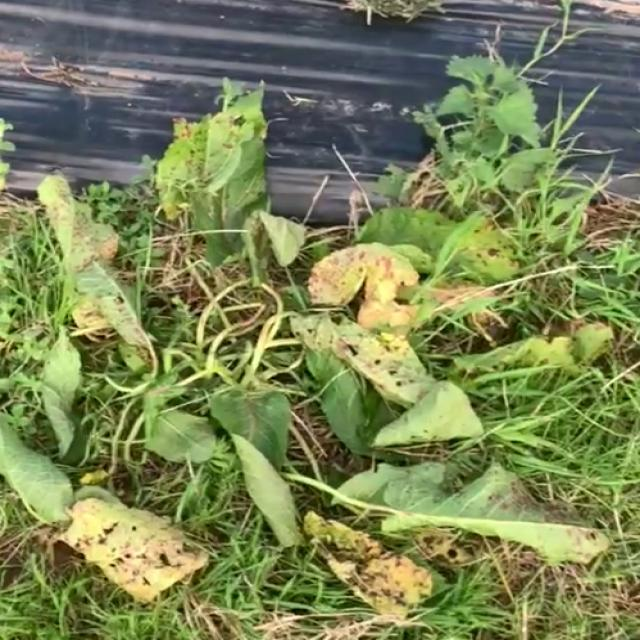organic waste: (0, 59, 587, 616)
